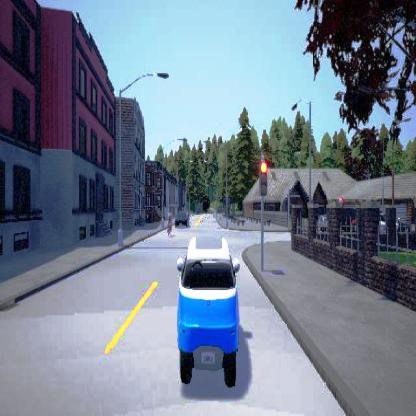bike: (165, 206, 172, 235)
vehicle: (176, 236, 238, 386), (174, 210, 189, 227)
